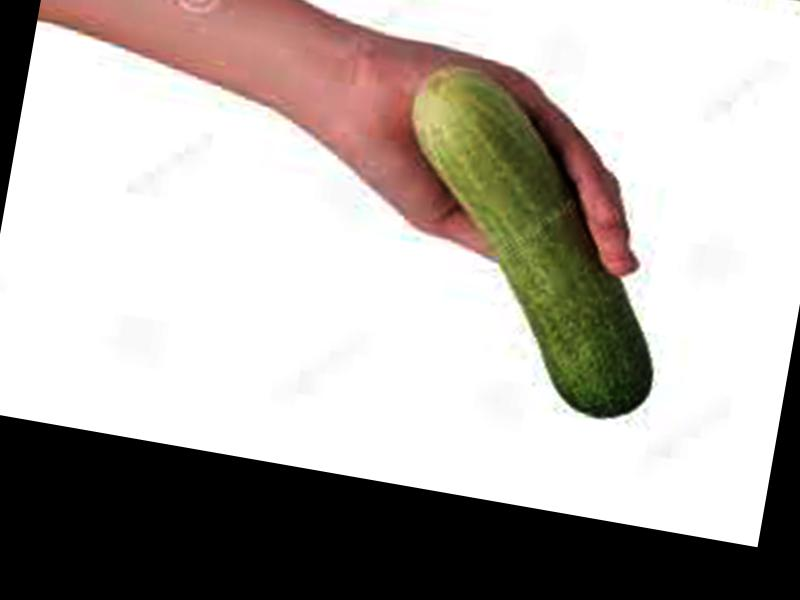Cucumber: (366, 62, 695, 422)
